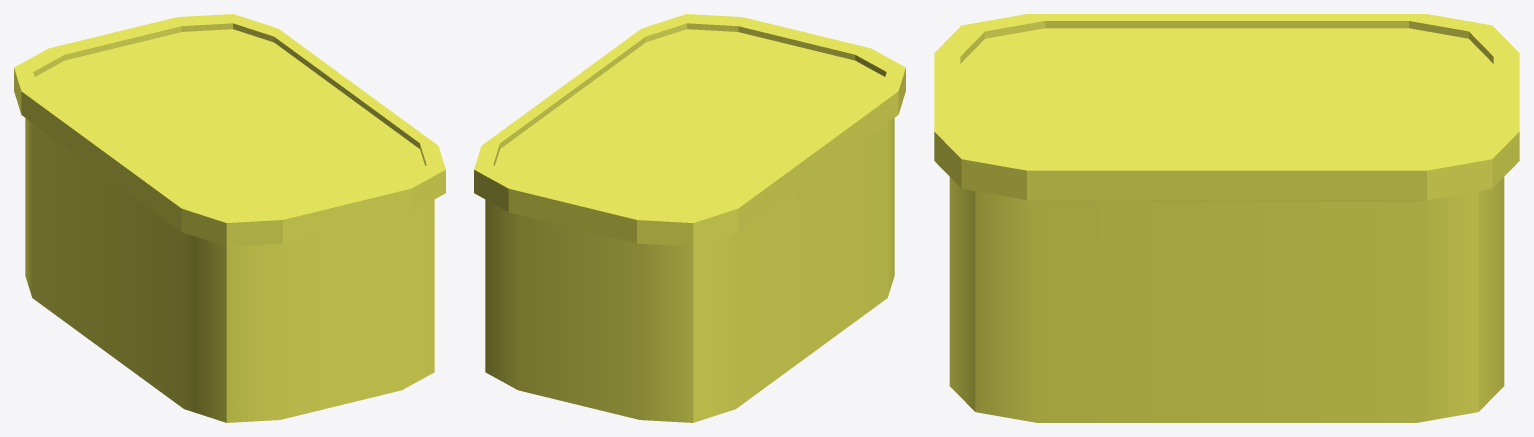
Rendered from Spam Installer.fbx.
3 renders of one model, left to right at view 1: azimuth 30°, elevation 25°; view 2: azimuth 150°, elevation 25°; view 3: azimuth 270°, elevation 25°, orthographic. The views are drawn at different scales.
Parts seen in each view (by area): view 1: pCube1; view 2: pCube1; view 3: pCube1.
Part boxes in pixels (x1=…): pCube1: x1=14, y1=14, x2=445, y2=422; pCube1: x1=474, y1=14, x2=905, y2=422; pCube1: x1=934, y1=14, x2=1519, y2=422.
Size of the model in its own units: 2.24 by 1.71 by 3.54.
